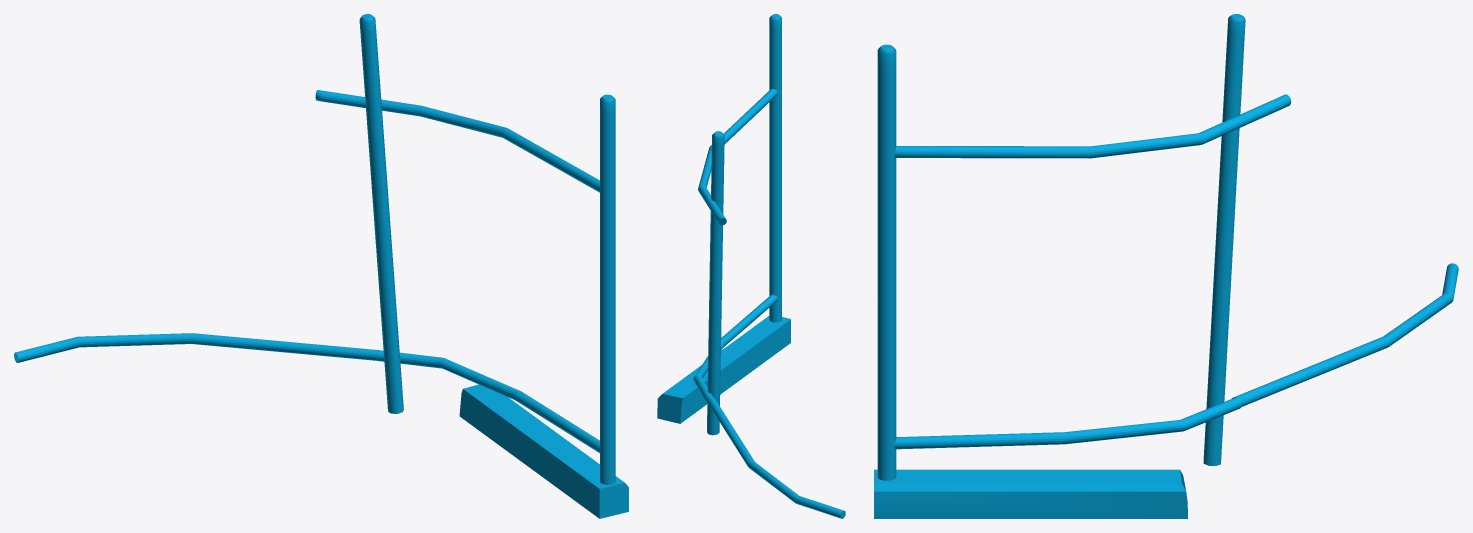
File: Fence_03_Break_03_Lod.fbx
3 views of the same model, side by side, from view 1: azimuth 30°, elevation 25°; view 2: azimuth 150°, elevation 25°; view 3: azimuth 270°, elevation 25° (orthographic). The views are drawn at different scales.
Visible parts, largest first — view 1: Fence_03_Break_03_Lod; view 2: Fence_03_Break_03_Lod; view 3: Fence_03_Break_03_Lod.
Boxes of the visible parts, bbox=[...] form: Fence_03_Break_03_Lod: bbox=[14, 14, 628, 518]; Fence_03_Break_03_Lod: bbox=[657, 14, 845, 518]; Fence_03_Break_03_Lod: bbox=[874, 14, 1458, 518].
Bounding box in the file's own units: 324 × 362 × 414.
